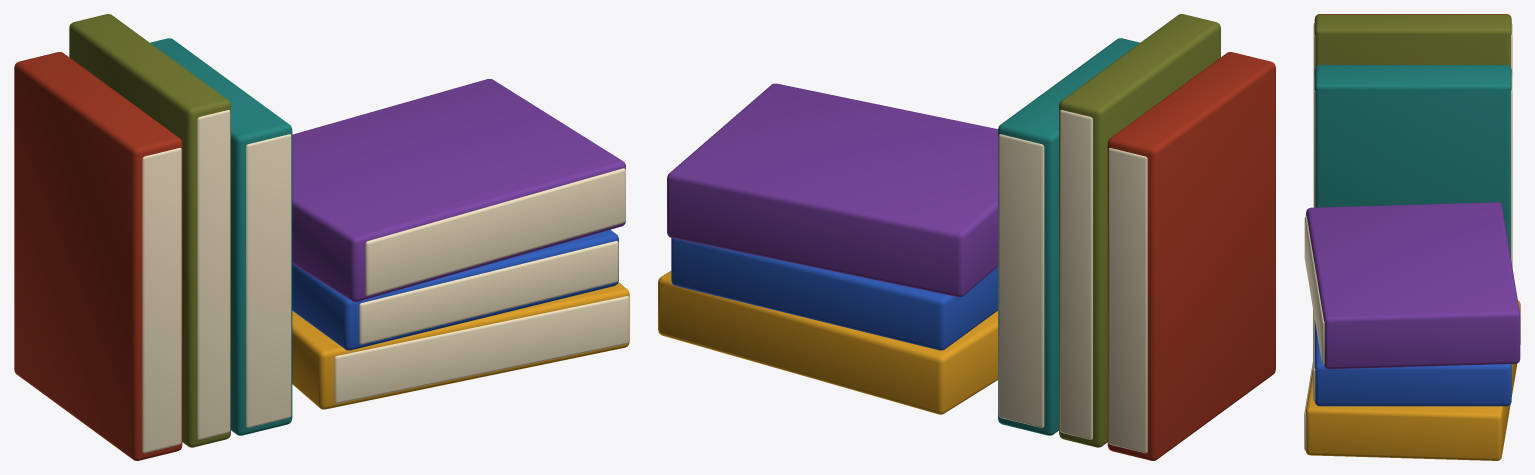
The model's file is books.glb.
3 renders of one model, left to right at view 1: azimuth 30°, elevation 25°; view 2: azimuth 150°, elevation 25°; view 3: azimuth 270°, elevation 25°, orthographic. The views are drawn at different scales.
Visible parts, largest first — view 1: books; view 2: books; view 3: books.
Boxes of the visible parts, left/top/right/bottom form: books: left=14, top=14, right=629, bottom=460; books: left=658, top=14, right=1275, bottom=460; books: left=1304, top=14, right=1520, bottom=460.
Bounding box in the file's own units: 0.4054 × 0.26 × 0.187.
